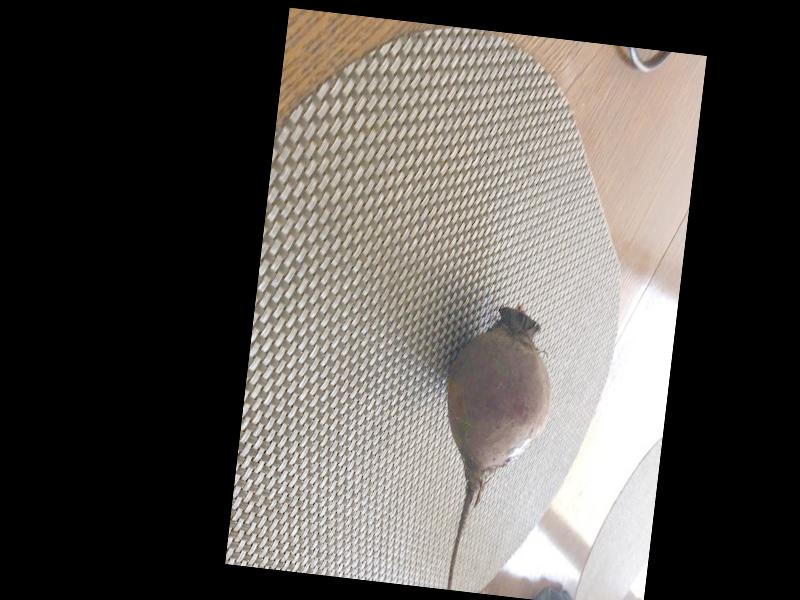Beet: (426, 300, 560, 596)
